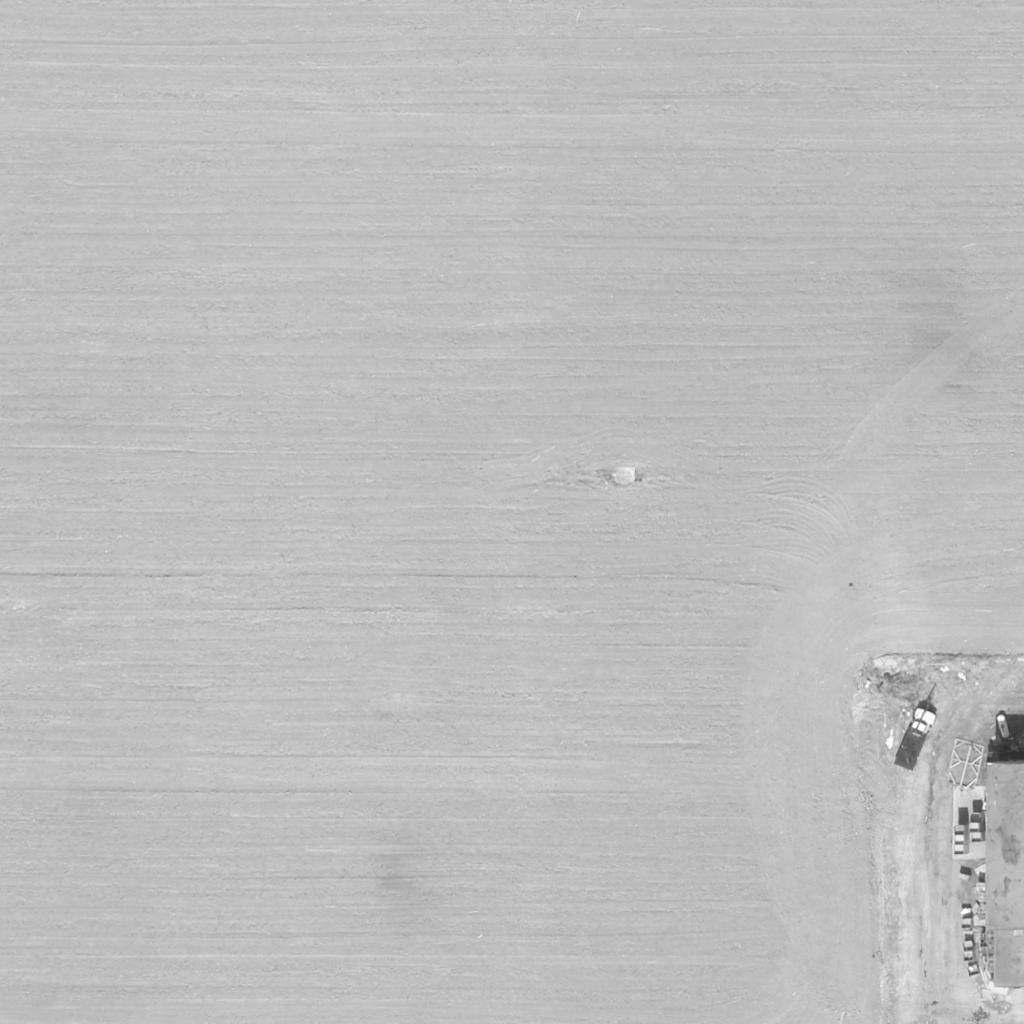vehicle: (893, 705, 937, 773)
